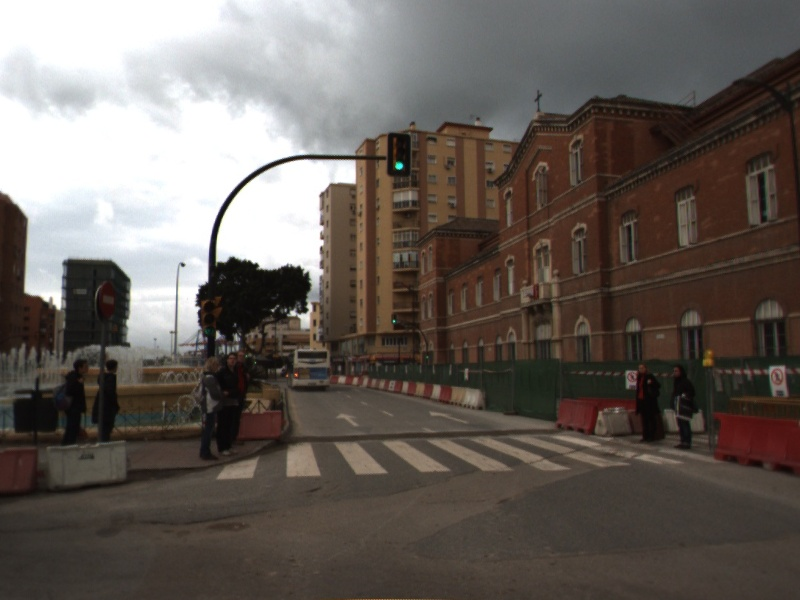STRAIGHT: (427, 408, 472, 426), (334, 410, 363, 428)
